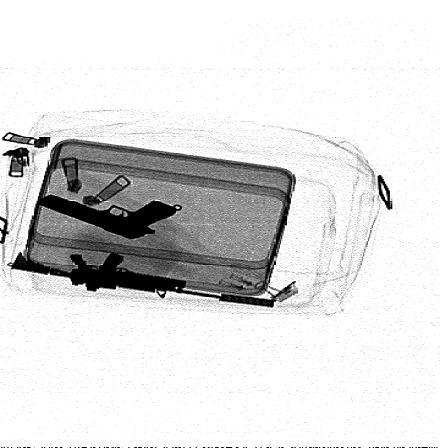Gun: (10, 250, 277, 308), (36, 193, 178, 240)
